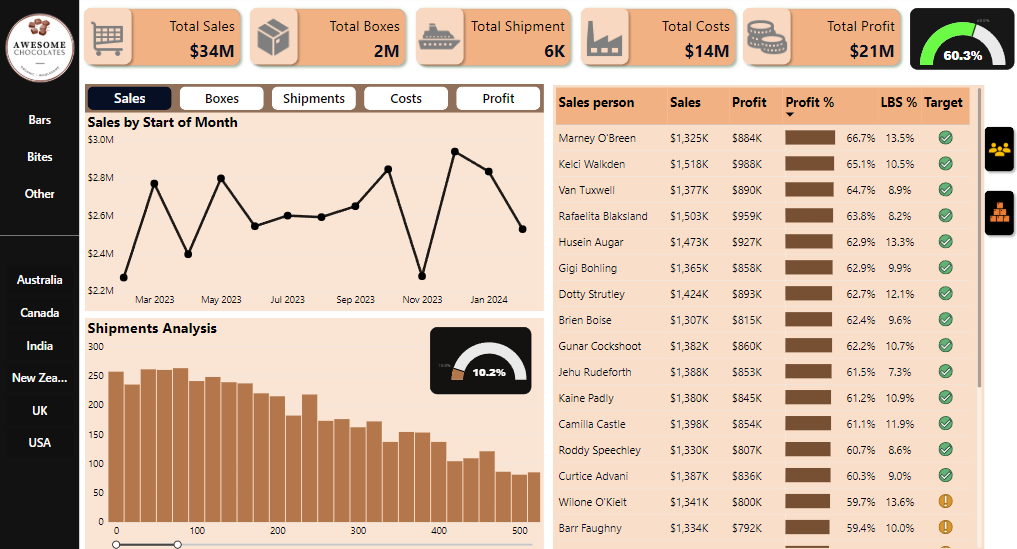

The dashboard page shown, as its layout file describes it:
{"tool":"powerbi","page":{"name":"Sales Dashboard","canvas":[2000,1080],"ordinal":0},"visuals":[{"type":"cardVisual","fields":{"Data":["_Measures.Total Sales","_Measures.Total Boxes","_Measures.Total Shipments","_Measures.Total Costs","_Measures.Total Profit"]},"box":[155.5,0,1630.8,146.9],"z":0},{"type":"gauge","fields":{"Y":["_Measures.Profit %"]},"box":[1786.3,15.1,205.2,121],"z":1000},{"type":"lineChart","fields":{"Y":["_Measures.Total Shipment"],"Category":["calendar.Start of Month"]},"box":[166.9,219.9,901.3,390.8],"z":2000},{"type":"advancedSlicerVisual","fields":{"Values":["Measure Selector.Measure Selector"]},"box":[166.3,164.2,900.7,56.2],"z":3000},{"type":"columnChart","title":"Shipments Analysis","fields":{"Category":["shipments.Boxes (bins)"],"Y":["_Measures.Total Shipments"]},"box":[166.3,624.2,900.7,455.8],"z":4000},{"type":"gauge","fields":{"Y":["_Measures.LBS %"]},"box":[844.6,641.5,198.7,131.8],"z":5000},{"type":"shape","box":[155.5,6.5,112.3,129.6],"z":8000},{"type":"shape","box":[481.7,6.5,112.3,129.6],"z":9000},{"type":"shape","box":[807.8,6.5,112.3,129.6],"z":10000},{"type":"shape","box":[1131.8,6.5,112.3,129.6],"z":11000},{"type":"shape","box":[1449.4,6.5,112.3,129.6],"z":12000},{"type":"image","box":[166.3,21.6,90.7,108],"z":13000},{"type":"image","box":[470.9,23.8,131.8,99.4],"z":14000},{"type":"image","box":[814.3,13,97.2,116.6],"z":15000},{"type":"tableEx","title":"Product table","fields":{"Values":["products.Product","_Measures.Total Sales","_Measures.Total Profit","_Measures.Profit %","_Measures.LBS %","_Measures.profit target indicator"]},"box":[1082.2,164.2,855.4,915.8],"z":17000},{"type":"image","box":[1131.8,21.6,112.3,108],"z":19000},{"type":"shape","box":[1924.6,239.8,75.6,105.8],"z":21000},{"type":"image","box":[1438.6,23.8,131.8,99.4],"z":22000},{"type":"shape","box":[1924.6,365,75.6,105.8],"z":23000},{"type":"image","title":"People","box":[1933.2,246.2,58.3,95],"z":23001},{"type":"image","title":"Produt","box":[1933.2,371.5,58.3,90.7],"z":23002},{"type":"shape","box":[0,0,155.5,1080],"z":23003},{"type":"image","box":[0,21.6,157.7,144.7],"z":23004},{"type":"advancedSlicerVisual","fields":{"Values":["products.Category"]},"box":[8.6,196.6,140.4,222.5],"z":23005},{"type":"advancedSlicerVisual","fields":{"Values":["locations.Geo"]},"box":[8.6,516.2,140.4,388.8],"z":23006},{"type":"shape","box":[0,408.2,155.5,108],"z":23007}]}

Visuals, with their boxes in screenshot pixels (x1, y1, x2, y2), scaled from the page's 2000x1080 canvas onto the 1017x549 screenshot:
cardVisual - _Measures.Total Sales x _Measures.Total Boxes: [79,0,908,75]
gauge - _Measures.Profit %: [908,8,1013,69]
lineChart - _Measures.Total Shipment x calendar.Start of Month: [85,112,543,310]
advancedSlicerVisual - Measure Selector.Measure Selector: [85,83,543,112]
"Shipments Analysis" columnChart: [85,317,543,548]
gauge - _Measures.LBS %: [429,326,531,393]
shape: [79,3,136,69]
shape: [245,3,302,69]
shape: [411,3,468,69]
shape: [576,3,633,69]
shape: [737,3,794,69]
image: [85,11,131,66]
image: [239,12,306,63]
image: [414,7,463,66]
"Product table" tableEx: [550,83,985,548]
image: [576,11,633,66]
shape: [979,122,1016,176]
image: [732,12,799,63]
shape: [979,186,1016,239]
"People" image: [983,125,1013,173]
"Produt" image: [983,189,1013,235]
shape: [0,0,79,548]
image: [0,11,80,85]
advancedSlicerVisual - products.Category: [4,100,76,213]
advancedSlicerVisual - locations.Geo: [4,262,76,460]
shape: [0,208,79,262]
